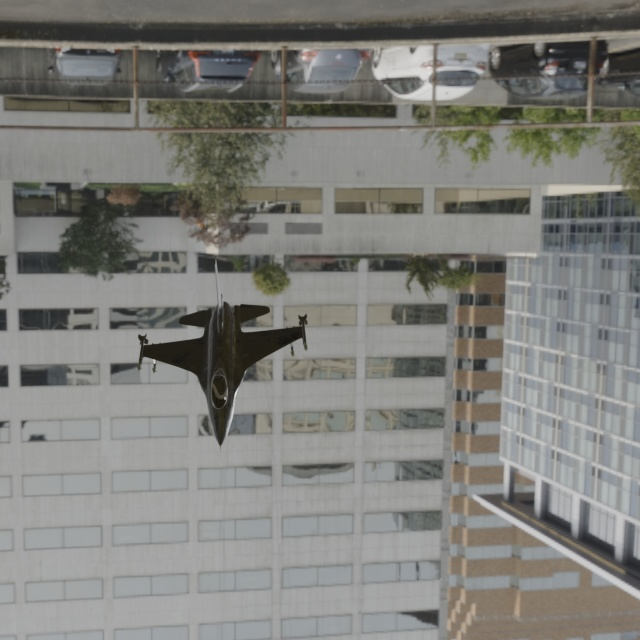model: (114, 246, 316, 475)
